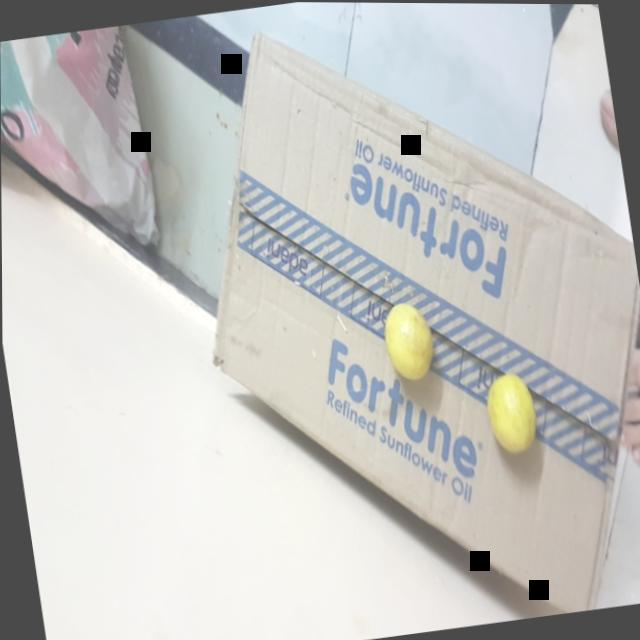lemon: (366, 292, 447, 390), (475, 363, 543, 461)
